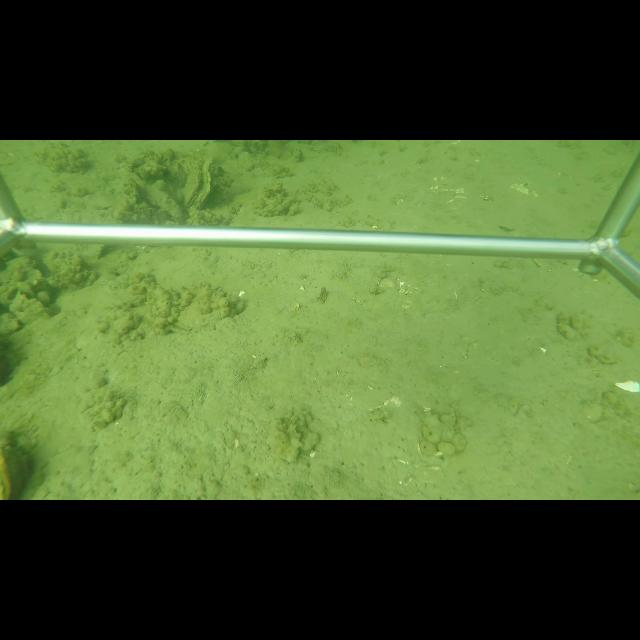Oyster-Closed: (197, 153, 217, 209), (181, 162, 204, 208)
